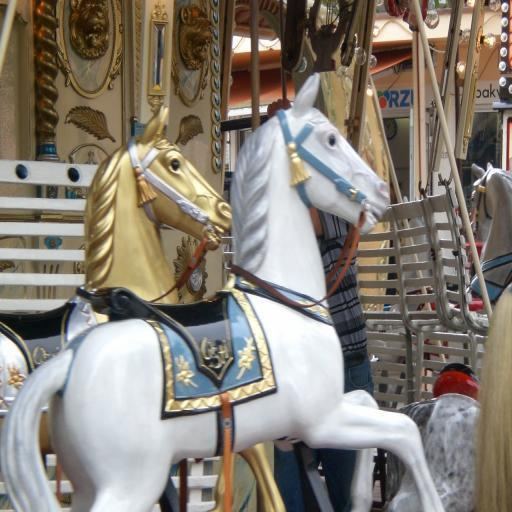horse: (0, 100, 287, 511), (383, 392, 481, 512), (474, 284, 512, 512), (470, 160, 512, 312)
